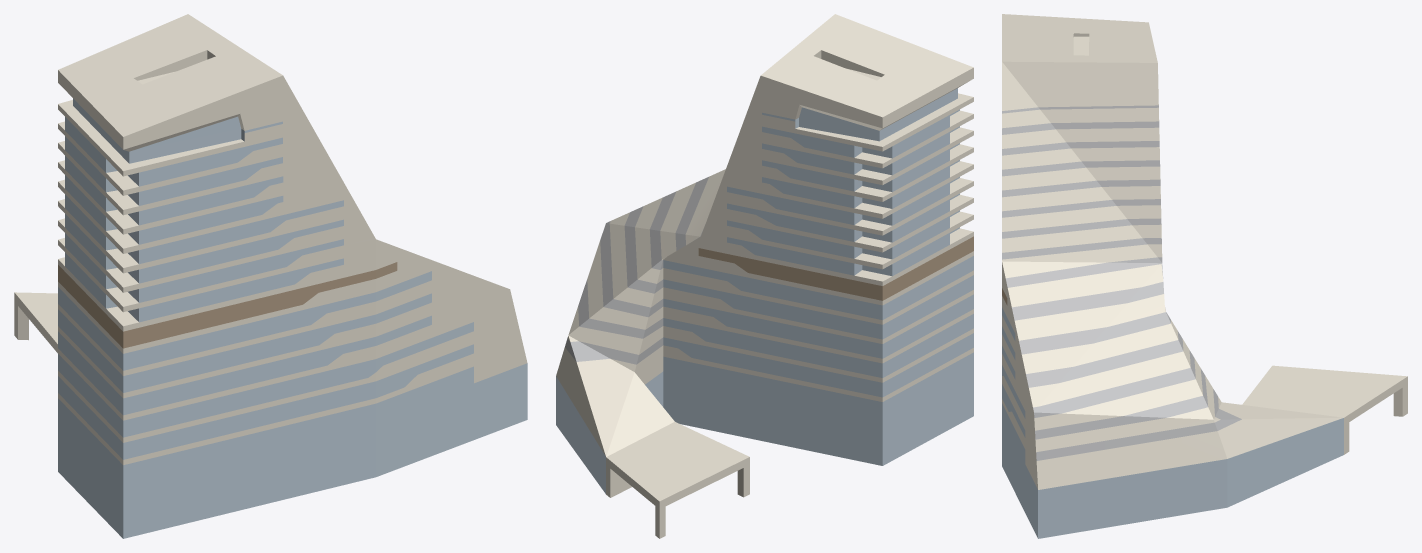
The picture shows the model from 3 angles, left to right: view 1: azimuth 30°, elevation 25°; view 2: azimuth 150°, elevation 25°; view 3: azimuth 270°, elevation 25°; orthographic projection. The views are drawn at different scales.
Parts seen in each view (by area): view 1: 70030076431368431lod; view 2: 70030076431368431lod; view 3: 70030076431368431lod.
Boxes of the visible parts, x1,y1,x2,y2 form: 70030076431368431lod: [14, 14, 527, 538]; 70030076431368431lod: [556, 14, 973, 538]; 70030076431368431lod: [1002, 14, 1407, 538].
Size of the model in its own units: 85.62 by 81.67 by 82.14.
1 material, 1 textured.
